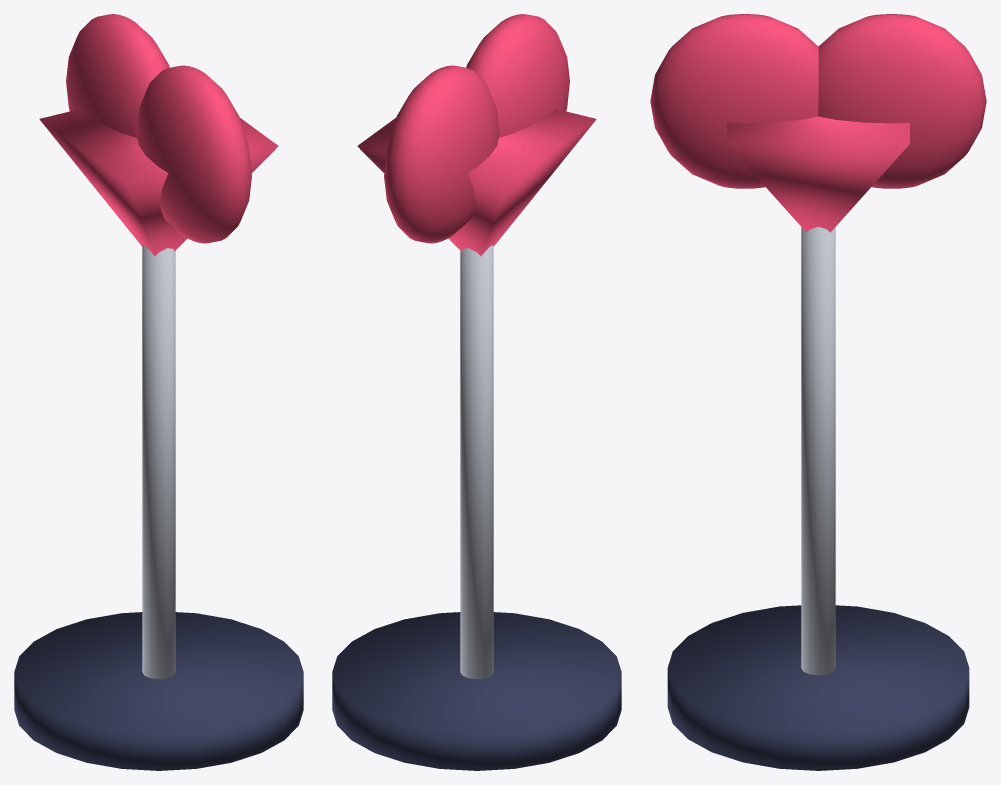
The model's file is SM_LikeHeart.fbx.
The picture shows the model from 3 angles, left to right: view 1: azimuth 30°, elevation 25°; view 2: azimuth 150°, elevation 25°; view 3: azimuth 270°, elevation 25°; orthographic projection. The views are drawn at different scales.
Parts seen in each view (by area): view 1: SM_LikeHeart; view 2: SM_LikeHeart; view 3: SM_LikeHeart.
Part boxes in pixels (left/top/right/bottom): SM_LikeHeart: left=14, top=14, right=303, bottom=770; SM_LikeHeart: left=332, top=14, right=621, bottom=770; SM_LikeHeart: left=650, top=14, right=986, bottom=770.
Size of what is drawn, in the model's own units: 0.7 by 1.77 by 0.78.
Materials: 1 (1 with a texture image).
